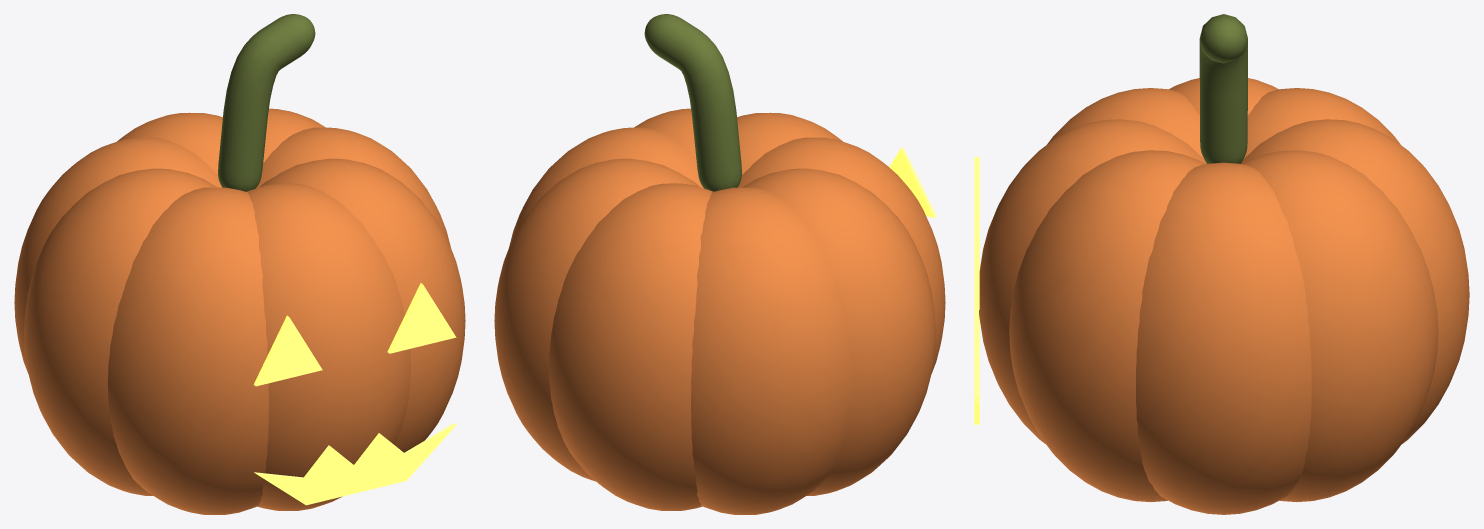
Rendered from deco_calabaza_grande.glb.
3 renders of one model, left to right at view 1: azimuth 30°, elevation 25°; view 2: azimuth 150°, elevation 25°; view 3: azimuth 270°, elevation 25°, orthographic. The views are drawn at different scales.
Parts seen in each view (by area): view 1: gajo 5.003, gajo 6.003, gajo 4.003, gajo 7.003, tallo calabaza.003, gajo 3.003, boca calabaza.003, gajo 0.003, gajo 2.003, ojo calabaza -1.003, ojo calabaza 1.003, gajo 1.003; view 2: gajo 3.003, gajo 2.003, gajo 4.003, gajo 1.003, tallo calabaza.003, gajo 5.003, gajo 0.003, gajo 6.003, gajo 7.003, ojo calabaza -1.003; view 3: gajo 0.003, gajo 7.003, gajo 1.003, gajo 2.003, gajo 6.003, tallo calabaza.003, gajo 3.003, gajo 5.003, gajo 4.003, boca calabaza.003.
Boxes of the visible parts, x1=… form: gajo 5.003: x1=107, y1=187, x2=268, y2=514; gajo 6.003: x1=246, y1=183, x2=410, y2=510; gajo 4.003: x1=24, y1=168, x2=217, y2=495; gajo 7.003: x1=259, y1=158, x2=465, y2=452; tallo calabaza.003: x1=218, y1=14, x2=315, y2=191; gajo 3.003: x1=14, y1=137, x2=222, y2=373; boca calabaza.003: x1=254, y1=423, x2=455, y2=505; gajo 0.003: x1=256, y1=127, x2=450, y2=247; gajo 2.003: x1=117, y1=112, x2=222, y2=174; ojo calabaza -1.003: x1=253, y1=315, x2=322, y2=386; ojo calabaza 1.003: x1=387, y1=283, x2=456, y2=353; gajo 1.003: x1=263, y1=108, x2=325, y2=162; gajo 3.003: x1=691, y1=187, x2=852, y2=514; gajo 2.003: x1=549, y1=183, x2=713, y2=510; gajo 4.003: x1=742, y1=168, x2=935, y2=495; gajo 1.003: x1=494, y1=158, x2=700, y2=481; tallo calabaza.003: x1=644, y1=14, x2=741, y2=191; gajo 5.003: x1=737, y1=137, x2=945, y2=373; gajo 0.003: x1=509, y1=127, x2=703, y2=247; gajo 6.003: x1=737, y1=112, x2=842, y2=174; gajo 7.003: x1=634, y1=108, x2=696, y2=162; ojo calabaza -1.003: x1=889, y1=147, x2=936, y2=217; gajo 0.003: x1=1136, y1=162, x2=1311, y2=514; gajo 7.003: x1=1009, y1=150, x2=1205, y2=502; gajo 1.003: x1=1242, y1=150, x2=1438, y2=501; gajo 2.003: x1=1241, y1=119, x2=1469, y2=443; gajo 6.003: x1=979, y1=119, x2=1206, y2=443; tallo calabaza.003: x1=1199, y1=14, x2=1247, y2=163; gajo 3.003: x1=1244, y1=88, x2=1400, y2=157; gajo 5.003: x1=1047, y1=88, x2=1203, y2=158; gajo 4.003: x1=1169, y1=78, x2=1278, y2=115; boca calabaza.003: x1=974, y1=310, x2=979, y2=424.
Size of the model in its own units: 0.5698 by 0.6002 by 0.5741.
